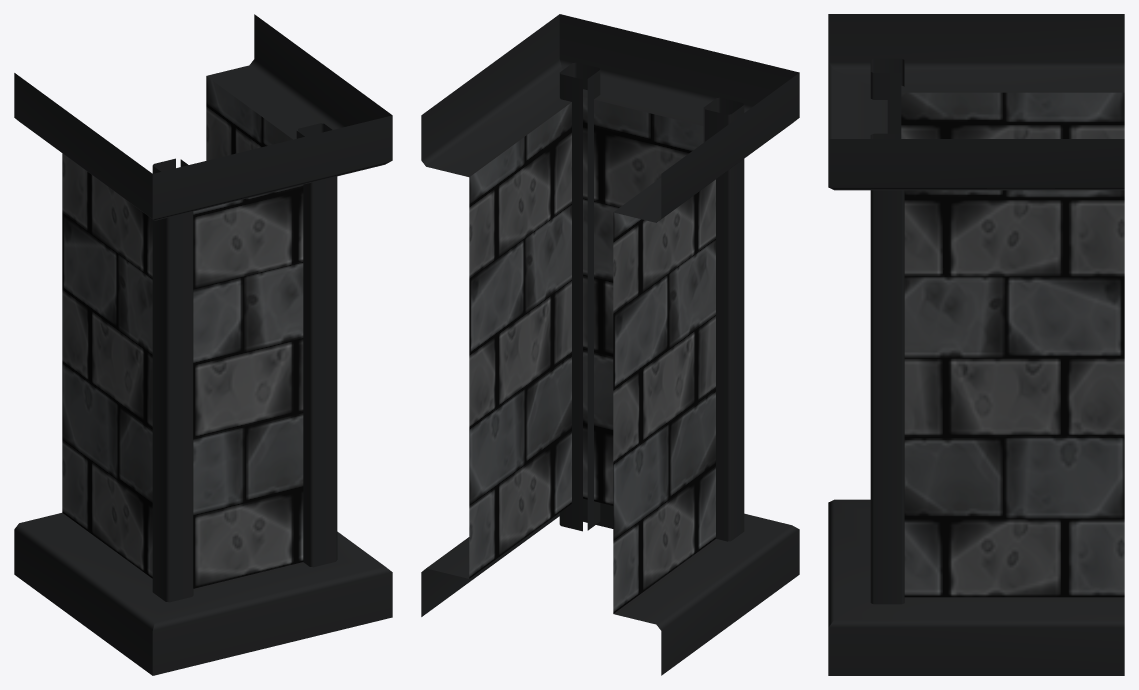
File: M_Wall_Outward_Half.fbx
3 renders of one model, left to right at view 1: azimuth 30°, elevation 25°; view 2: azimuth 150°, elevation 25°; view 3: azimuth 270°, elevation 25°, orthographic. The views are drawn at different scales.
Parts seen in each view (by area): view 1: Wall_Outward_Half; view 2: Wall_Outward_Half; view 3: Wall_Outward_Half.
Part boxes in pixels (x1=…): Wall_Outward_Half: x1=14, y1=14, x2=392, y2=675; Wall_Outward_Half: x1=421, y1=14, x2=799, y2=675; Wall_Outward_Half: x1=828, y1=14, x2=1124, y2=675.
Size of the model in its own units: 100 by 200 by 100.
